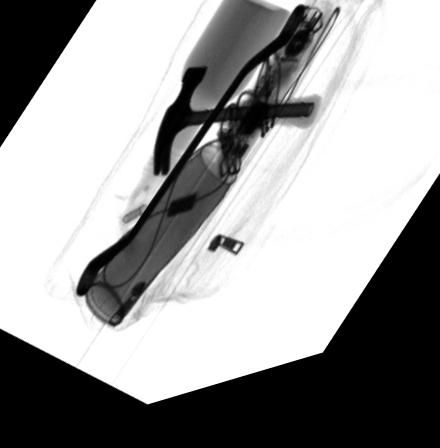Hammer: (154, 76, 322, 186)
Wrench: (74, 19, 305, 301)
